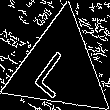L_NE: (33, 38, 86, 98)
